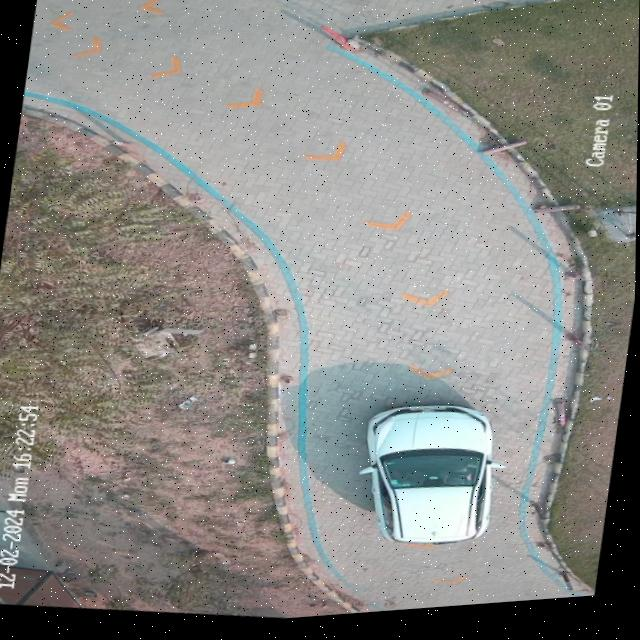car: (367, 410, 494, 550)
